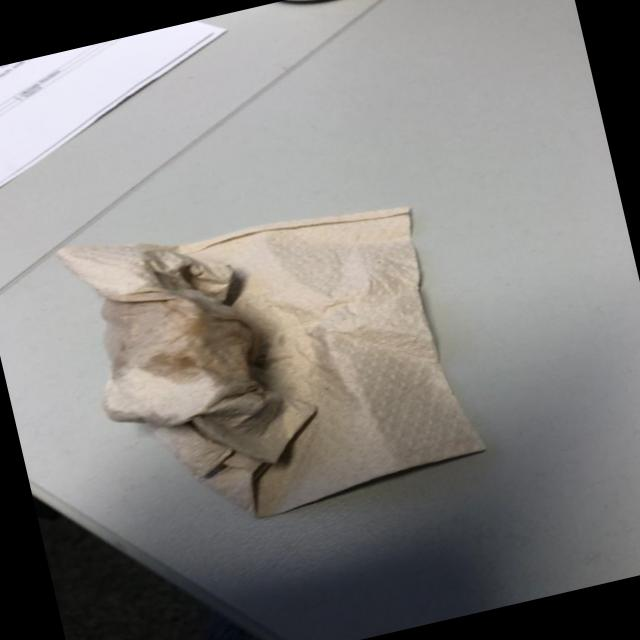organic waste: (49, 156, 498, 547)
